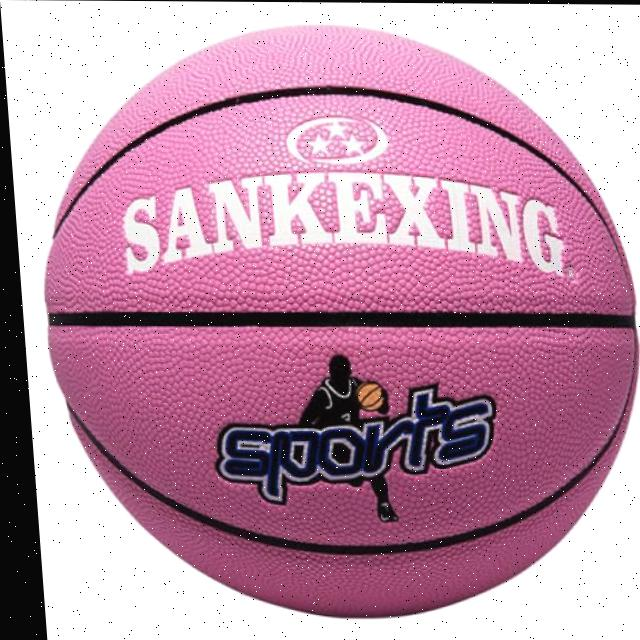Basketball: (23, 11, 640, 614)
